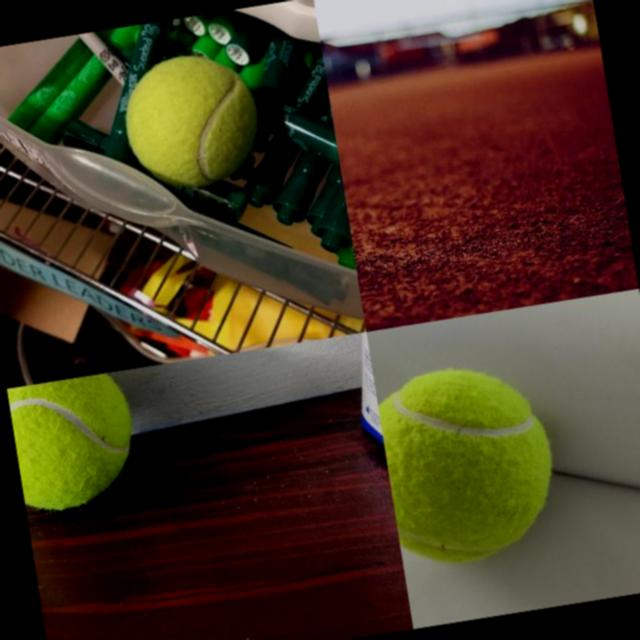tennis-ball: (374, 352, 568, 574), (115, 44, 271, 198), (7, 370, 145, 516)
